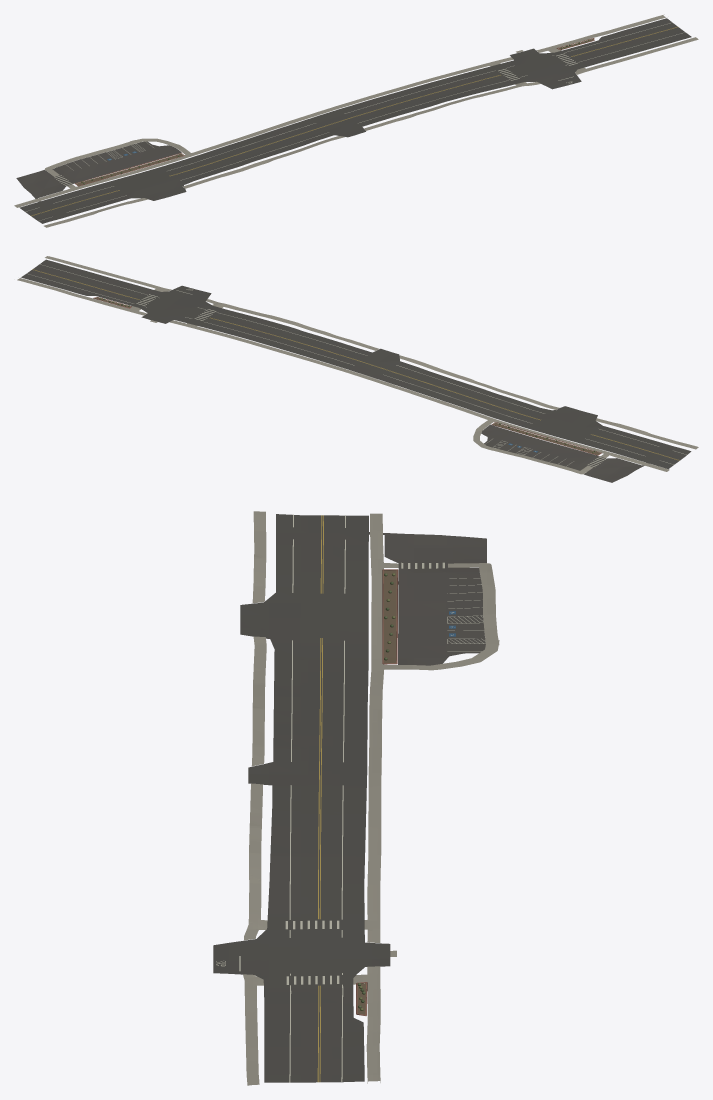
File: site.glb
3 views of the same model, one above another, from view 1: azimuth 30°, elevation 25°; view 2: azimuth 150°, elevation 25°; view 3: azimuth 270°, elevation 25° (orthographic). The views are drawn at different scales.
Parts seen in each view (by area): view 1: east-18th-west-paving, east-18th-west-markings; view 2: east-18th-west-paving, east-18th-west-markings; view 3: east-18th-west-paving, east-18th-west-markings.
Boxes of the visible parts, <box> form: east-18th-west-paving: <box>14,14,698,227</box>; east-18th-west-markings: <box>25,22,684,220</box>; east-18th-west-paving: <box>17,256,698,482</box>; east-18th-west-markings: <box>27,264,686,466</box>; east-18th-west-paving: <box>213,511,499,1085</box>; east-18th-west-markings: <box>216,514,485,1082</box>.
Size of the model in its own units: 205 by 9.93 by 39.
